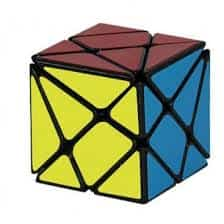rubik_cube: (23, 19, 216, 207)
